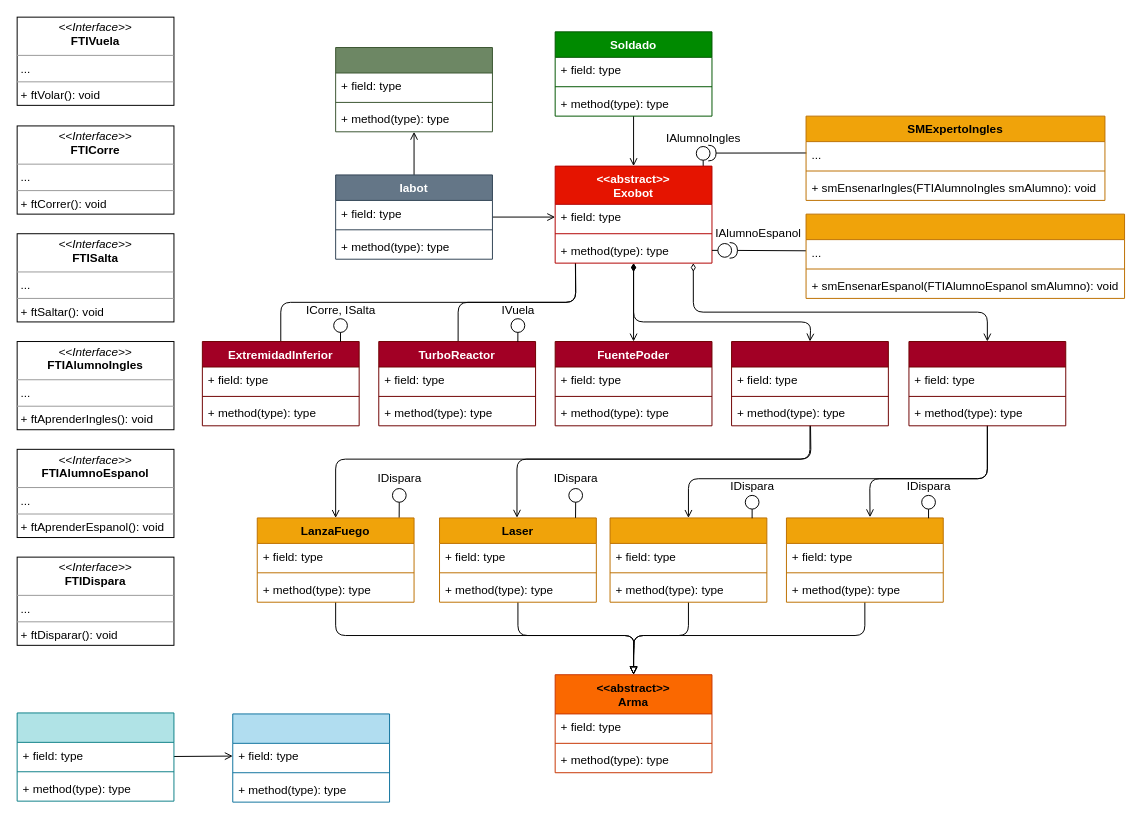
This 1142x822 diagram has some shape labels left out. Here are the shapes that lost their labels. From the top down, the box of each, then its label:
(335, 47, 492, 132): Mecatronico
(805, 213, 1125, 298): SMExpertoEspanol
(731, 341, 888, 426): BrazoDerecho
(908, 341, 1066, 426): BrazoIzquierdo
(609, 517, 767, 602): MK61
(785, 517, 943, 602): Bazuca
(16, 712, 174, 801): PatBattle
(232, 713, 390, 802): App
